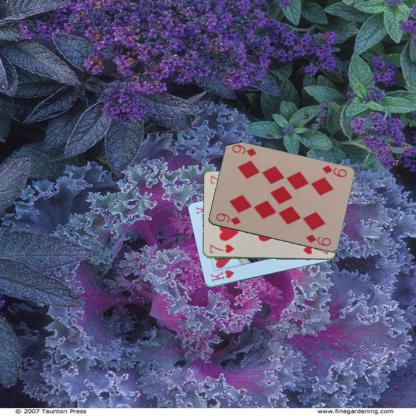7h: (208, 242, 235, 254)
9d: (213, 211, 242, 226), (319, 163, 348, 178)
Kh: (208, 268, 235, 283)
